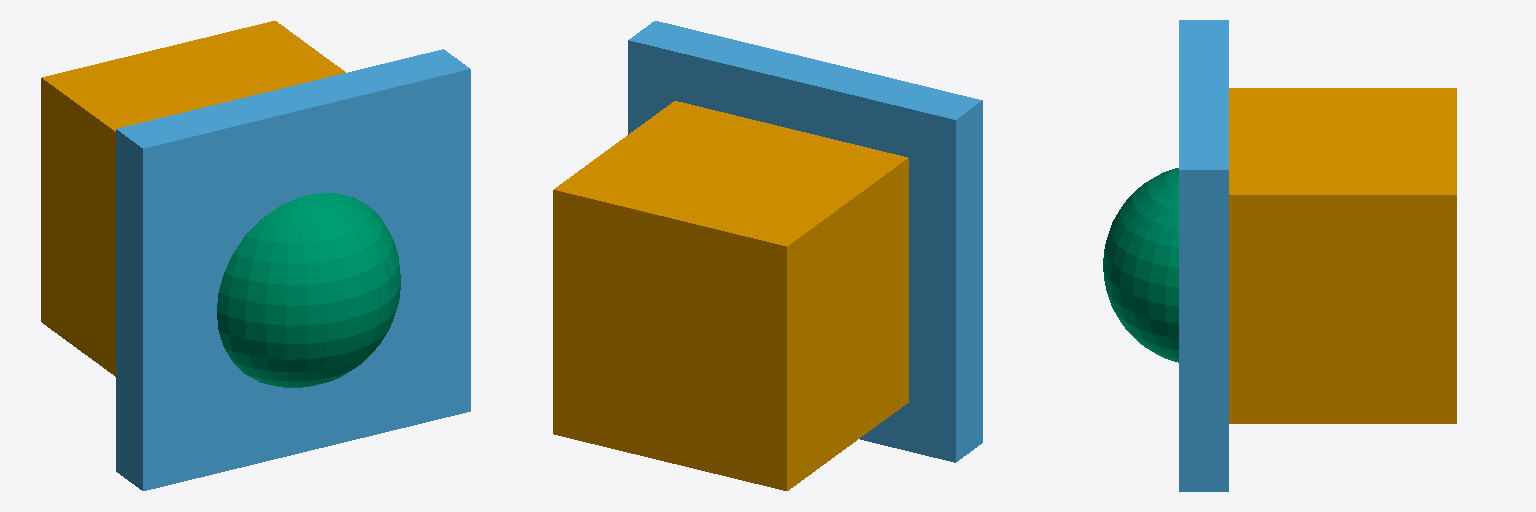
robot.urdf — iggy:
<?xml version="1.0"?>
<robot name="iggy">


 <link name="base_link">
    <visual>
      <geometry>
         <box size=".5 .5 .5"/>
      </geometry>
    </visual>
    <collision>
      <geometry>
        <box size=".5 .5 .5"/>
      </geometry>
    </collision>
    <inertial>
      <mass value="5"/>
      <inertia ixx="1.0" ixy="0.0" ixz="0.0" iyy="1.0" iyz="0.0" izz="1.0"/>
    </inertial>
  </link>  

<link name="middle_link">
    <visual>
      <geometry>
         <box size=".7 .1 .7"/>
      </geometry>
    </visual>
    <collision>
      <geometry>
        <box size=".7 .1 .7"/>
      </geometry>
    </collision>
    <inertial>
      <mass value="5"/>
      <inertia ixx="1.0" ixy="0.0" ixz="0.0" iyy="1.0" iyz="0.0" izz="1.0"/>
    </inertial>
  </link>

<link name="caster_link">
    <visual>
      <origin rpy="1.57079632679 0 0" xyz="0 0.02 0"/>
      <geometry>
        <sphere radius="0.2"/> 
      </geometry>
      <material name="Black"/>
    </visual>
    <collision>
      <geometry>
        <sphere radius="0.2"/>
      </geometry>
      <origin rpy="1.57079632679 0 0" xyz="0 0.02 0"/>
    </collision>
    <inertial>
      <mass value="0.5"/>
      <origin xyz="0 0 0"/>
      <inertia ixx="0.001" ixy="0.0" ixz="0.0" iyy="0.001" iyz="0.0" izz="0.001"/>
    </inertial>
  </link>
  <joint name="wheel_joint" type="fixed">
    <parent link="middle_link"/>
    <child link="caster_link"/>
    <origin xyz="0 0 0" rpy="-1.57079632679 0 0"/>
  </joint>
  <gazebo reference="caster_front_link">
    <turnGravityOff>false</turnGravityOff>
  </gazebo>


<joint name="top_joint" type="revolute">
        <axis xyz="0 1 0"/>
        <limit effort="1000.0" lower="0.0" upper="0.548" velocity="0.5"/>
        <origin rpy="0 0 0" xyz="0.0 -.25 0.0 "/>
        <parent link="base_link"/>
        <child link="middle_link"/>
      </joint>
  


</robot> 

--- Render facts (derived) ---
Views: 3 orthographic renders of the robot side by side, from view 1: azimuth 30°, elevation 25°; view 2: azimuth 150°, elevation 25°; view 3: azimuth 270°, elevation 25°.
Model iggy with 3 links and 2 joints (1 revolute, 1 fixed), rooted at base_link, posed all joints at 0.
Links seen in each view (by area): view 1: middle_link, base_link, caster_link; view 2: base_link, middle_link; view 3: base_link, middle_link, caster_link.
Boxes of the visible links, left/top/right/bottom form: middle_link: left=116, top=49, right=470, bottom=490; base_link: left=41, top=21, right=345, bottom=376; caster_link: left=217, top=193, right=400, bottom=387; base_link: left=553, top=101, right=908, bottom=490; middle_link: left=628, top=21, right=982, bottom=462; base_link: left=1229, top=88, right=1456, bottom=423; middle_link: left=1179, top=20, right=1228, bottom=491; caster_link: left=1103, top=168, right=1178, bottom=362.
Size in the robot's own frame: 0.7 by 0.7 by 0.7 metres.
Geometry: primitives only (box / cylinder / sphere), no mesh files.
